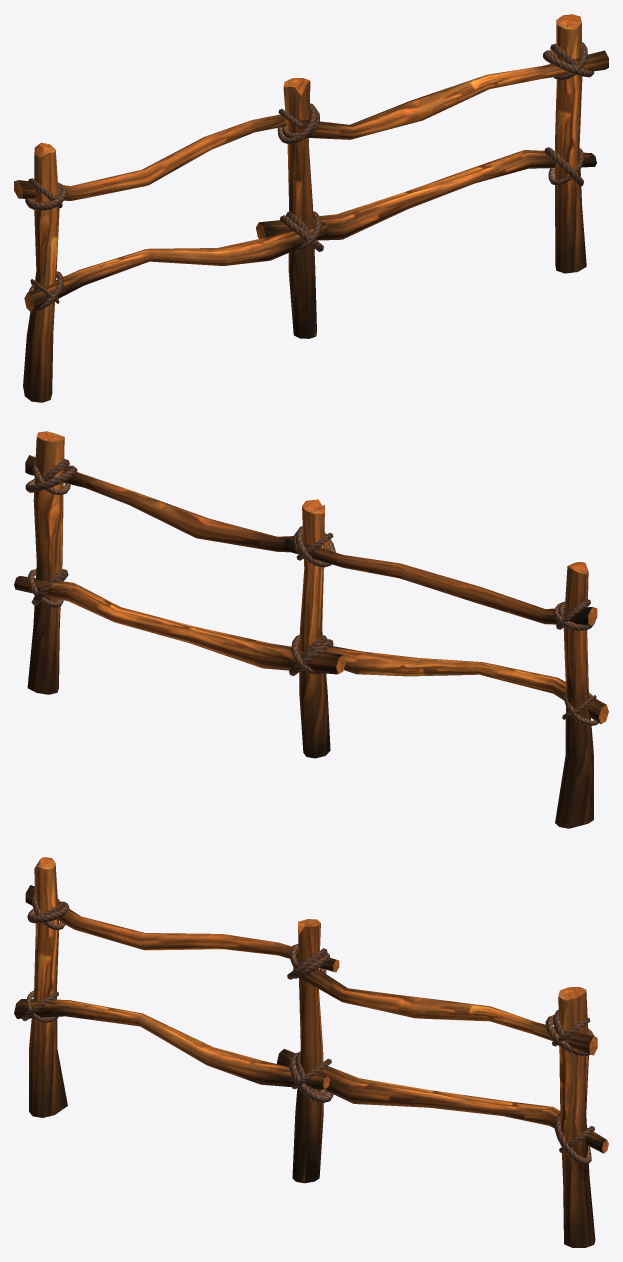
The model's file is fence01.FBX.
The picture shows the model from 3 angles, top to bottom: view 1: azimuth 30°, elevation 25°; view 2: azimuth 150°, elevation 25°; view 3: azimuth 330°, elevation 25°; orthographic projection.
Parts seen in each view (by area): view 1: fence_01; view 2: fence_01; view 3: fence_01.
Boxes of the visible parts, <box> form: fence_01: <box>14,14,608,402</box>; fence_01: <box>14,431,608,828</box>; fence_01: <box>14,857,608,1247</box>.
Size of the model in its own units: 262 by 110 by 26.19.
